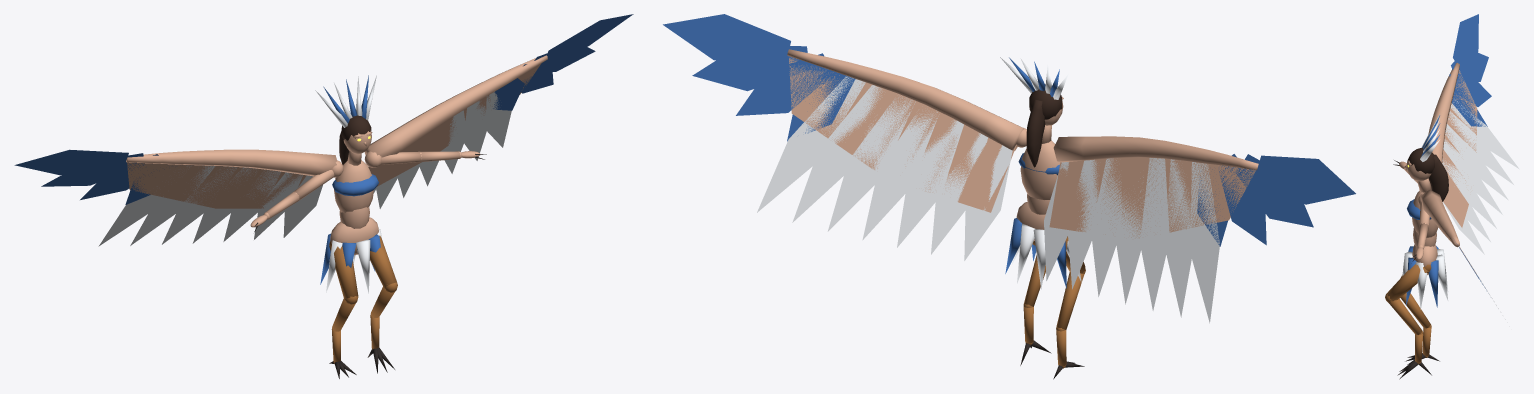
Rendered from harpy.glb.
The picture shows the model from 3 angles, left to right: view 1: azimuth 30°, elevation 25°; view 2: azimuth 150°, elevation 25°; view 3: azimuth 270°, elevation 25°; orthographic projection. The views are drawn at different scales.
Parts seen in each view (by area): view 1: upperarm_R, upperarm_L, torso, pelvis, head, thigh_R, thigh_L, shin_L, shin_R; view 2: upperarm_L, upperarm_R, head, pelvis, torso, shin_R, shin_L; view 3: upperarm_R, head, pelvis, upperarm_L, torso, thigh_L, shin_L, shin_R, forearm_L, foot_L.
Part boxes in pixels (bbox=[...]): upperarm_R: bbox=[14, 149, 343, 246]; upperarm_L: bbox=[364, 14, 633, 208]; torso: bbox=[332, 151, 378, 228]; pelvis: bbox=[320, 217, 382, 293]; head: bbox=[315, 75, 376, 164]; thigh_R: bbox=[329, 240, 358, 304]; thigh_L: bbox=[370, 235, 397, 292]; shin_L: bbox=[370, 286, 395, 349]; shin_R: bbox=[331, 298, 355, 363]; upperarm_L: bbox=[663, 14, 1026, 260]; upperarm_R: bbox=[1044, 136, 1355, 323]; head: bbox=[1000, 57, 1068, 167]; pelvis: bbox=[1005, 202, 1081, 289]; torso: bbox=[1018, 125, 1060, 214]; shin_R: bbox=[1056, 272, 1084, 368]; shin_L: bbox=[1023, 255, 1045, 345]; upperarm_R: bbox=[1415, 14, 1519, 254]; head: bbox=[1404, 114, 1448, 201]; pelvis: bbox=[1402, 244, 1448, 309]; upperarm_L: bbox=[1418, 189, 1509, 326]; torso: bbox=[1407, 178, 1438, 246]; thigh_L: bbox=[1385, 264, 1431, 302]; shin_L: bbox=[1388, 299, 1423, 364]; shin_R: bbox=[1400, 293, 1431, 357]; forearm_L: bbox=[1417, 222, 1428, 249]; foot_L: bbox=[1397, 360, 1431, 379].
Size of the model in its own units: 4.3 by 1.86 by 0.9246.
